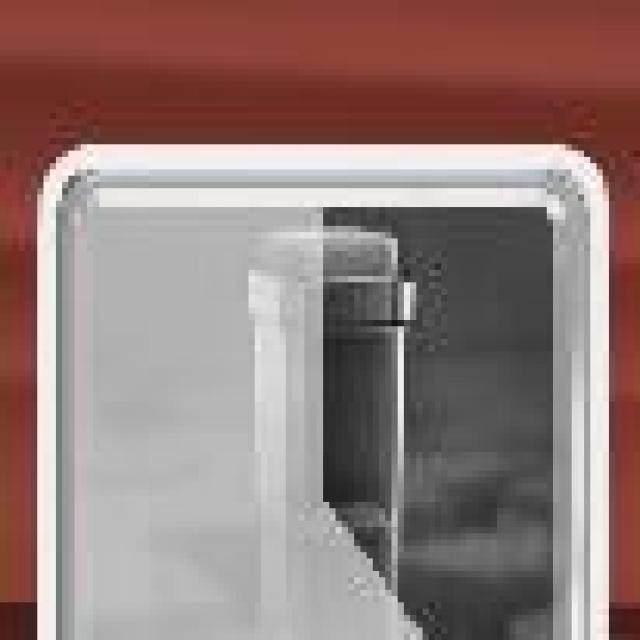Earthquake: (38, 142, 610, 640)
